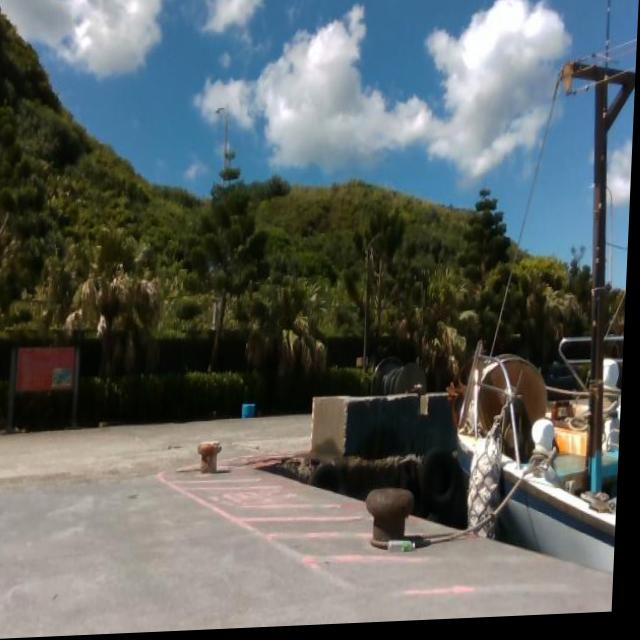pollute: (245, 406, 261, 421)
